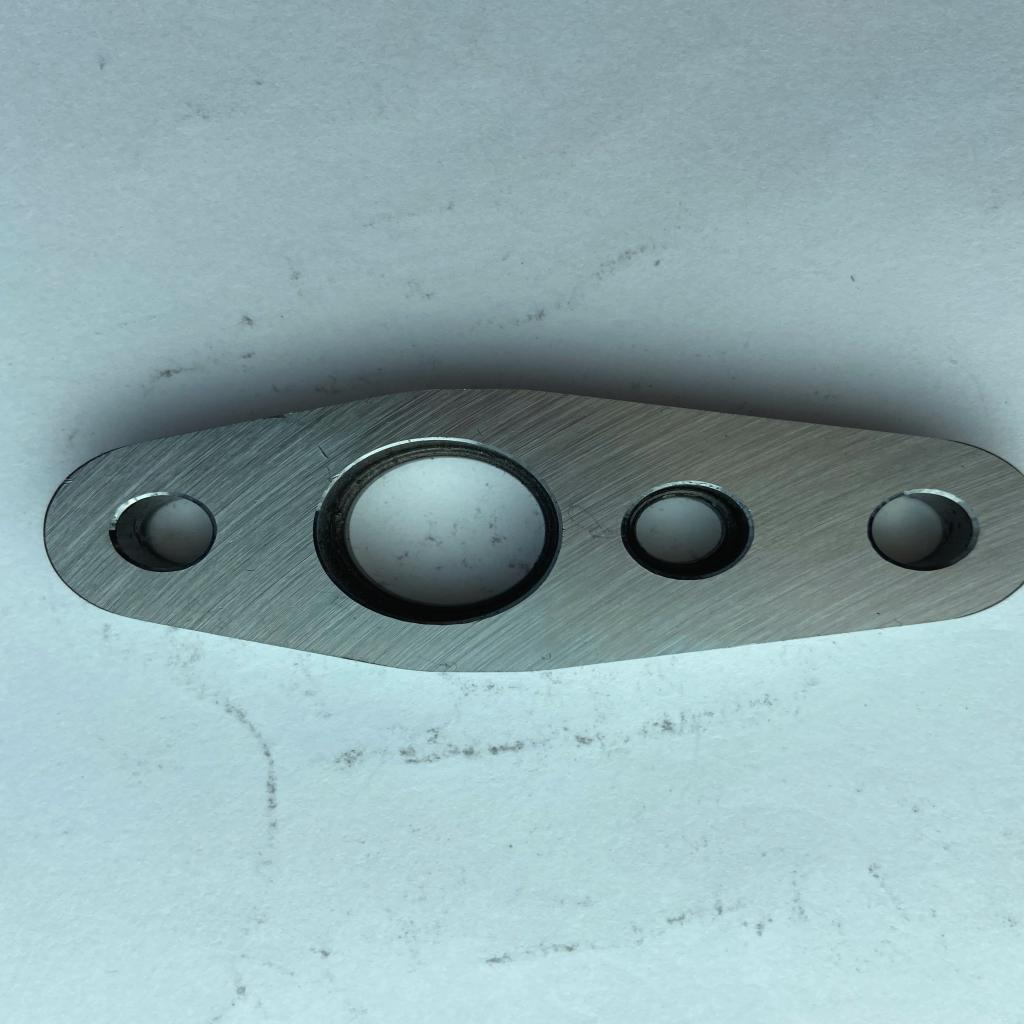chap: (317, 443, 332, 460), (238, 566, 258, 576), (63, 477, 80, 488), (326, 473, 345, 480)
lines: (565, 498, 614, 542)
